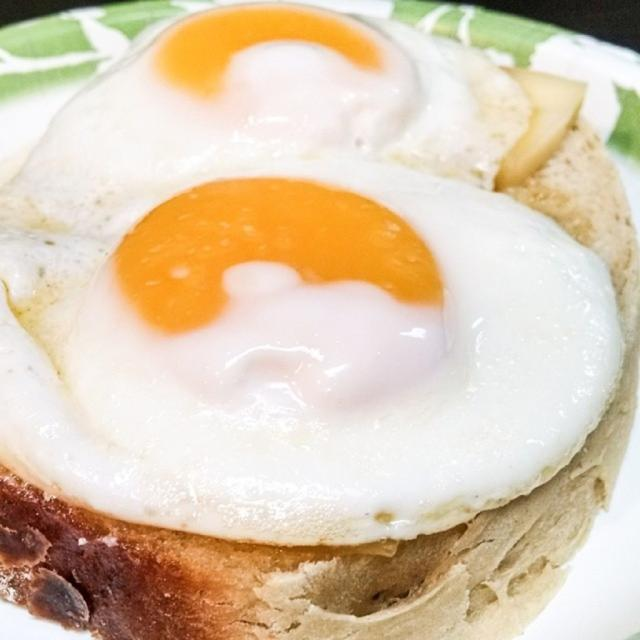Egg: (0, 0, 631, 545)
